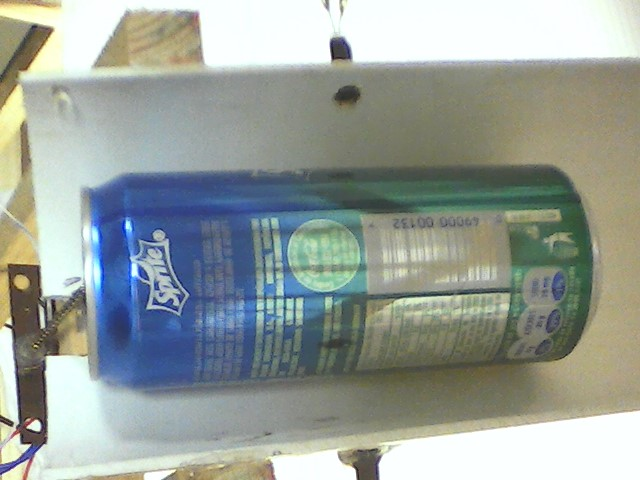lata: (75, 162, 613, 394)
